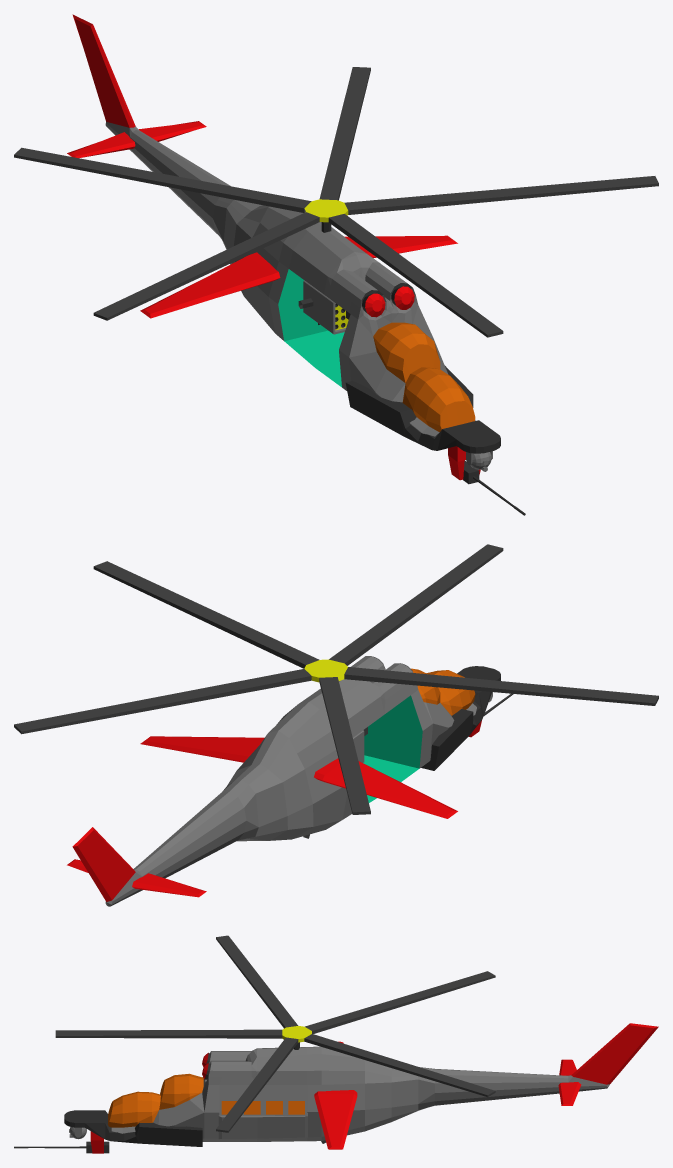
The picture shows the model from 3 angles, top to bottom: view 1: azimuth 30°, elevation 25°; view 2: azimuth 150°, elevation 25°; view 3: azimuth 270°, elevation 25°; orthographic projection. The views are drawn at different scales.
Visible parts, largest first — view 1: Main Body, Main Rotor, Wings, Super Hind Mount, Elevators, Rocket Pod; view 2: Main Body, Main Rotor, Wings, Super Hind Mount, Elevators; view 3: Main Body, Main Rotor, Super Hind Mount, Upper Door, Lower Door, Wings, Elevators.
Boxes of the visible parts, x1,y1,x2,y2 form: Main Body: [72, 14, 475, 436]; Main Rotor: [14, 67, 658, 337]; Wings: [140, 235, 457, 318]; Super Hind Mount: [345, 366, 500, 453]; Elevators: [67, 121, 206, 158]; Rocket Pod: [303, 280, 348, 334]; Main Body: [72, 656, 476, 906]; Main Rotor: [14, 544, 658, 814]; Wings: [140, 736, 457, 818]; Super Hind Mount: [421, 666, 500, 770]; Elevators: [67, 859, 206, 897]; Main Body: [108, 1023, 658, 1141]; Main Rotor: [55, 935, 495, 1132]; Super Hind Mount: [64, 1110, 202, 1146]; Upper Door: [219, 1085, 307, 1116]; Lower Door: [218, 1115, 307, 1139]; Wings: [314, 1041, 357, 1149]; Elevators: [558, 1059, 581, 1105].
Size of the model in its own units: 1201 by 368 by 1675.
